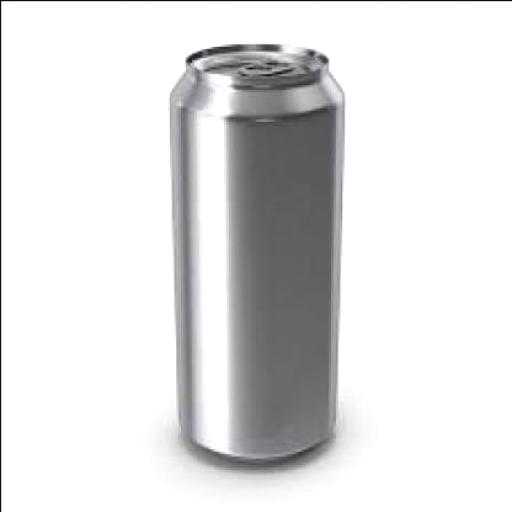metal: (166, 41, 344, 462)
